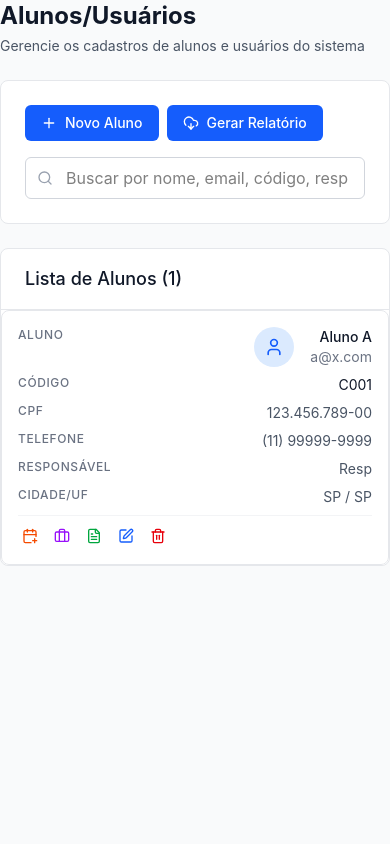
Scenario: Students page › opens report modal via button
The image size is (390, 844).
Click the button "Gerar Relatório".
click(245, 123)  # box [166,105,323,141]
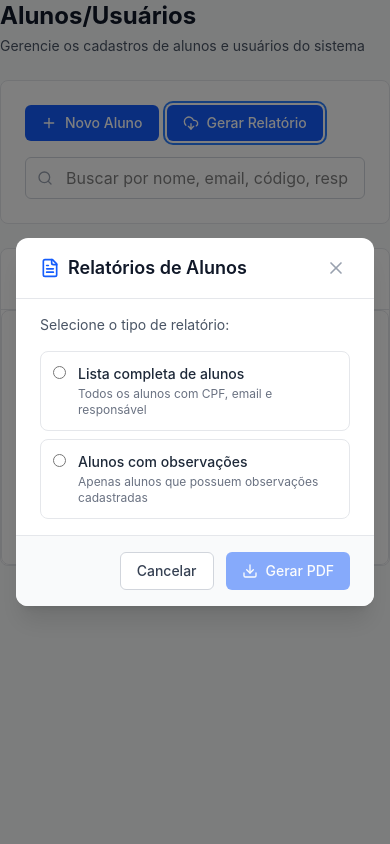
Now the heading "Relatórios de Alunos" is shown, box [68,254,247,282]
